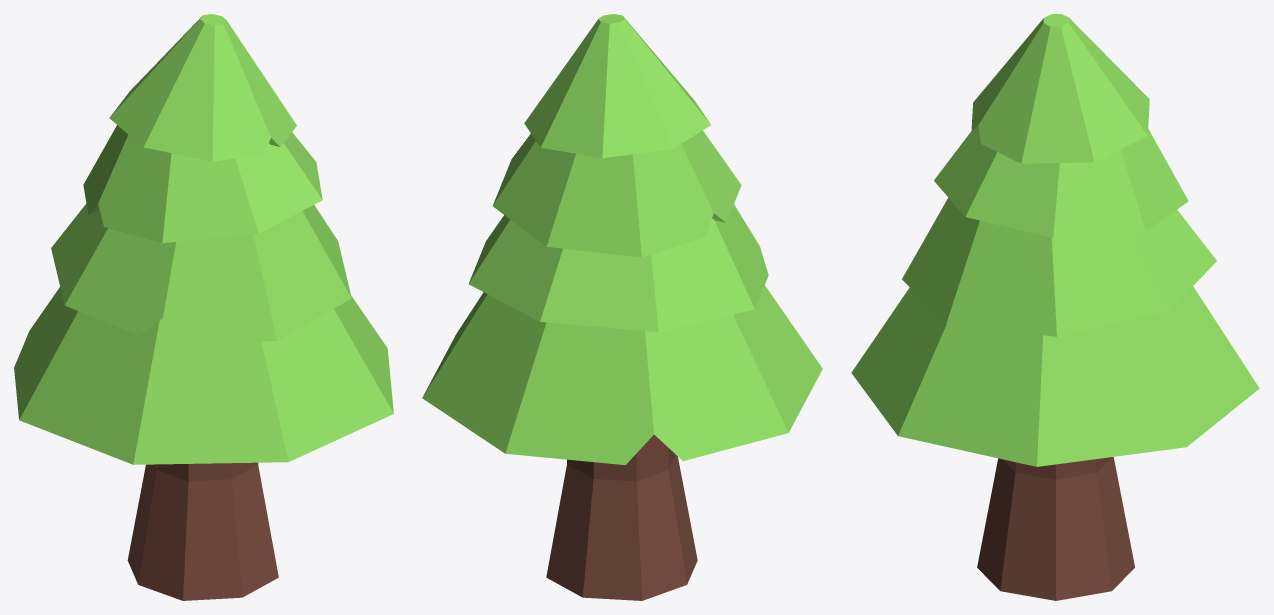
File: Pino.fbx
3 renders of one model, left to right at view 1: azimuth 30°, elevation 25°; view 2: azimuth 150°, elevation 25°; view 3: azimuth 270°, elevation 25°, orthographic.
Visible parts, largest first — view 1: Cylinder; view 2: Cylinder; view 3: Cylinder.
Part boxes in pixels (x1,y1,x2,y2): Cylinder: (14, 14, 393, 600); Cylinder: (422, 14, 822, 600); Cylinder: (851, 14, 1259, 600).
Bounding box in the file's own units: 1330 × 1989 × 1330.
